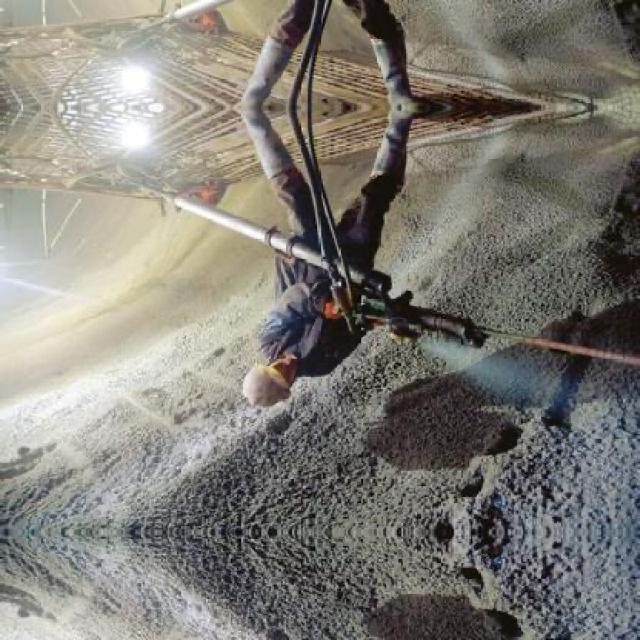con casco: (182, 339, 342, 430)
